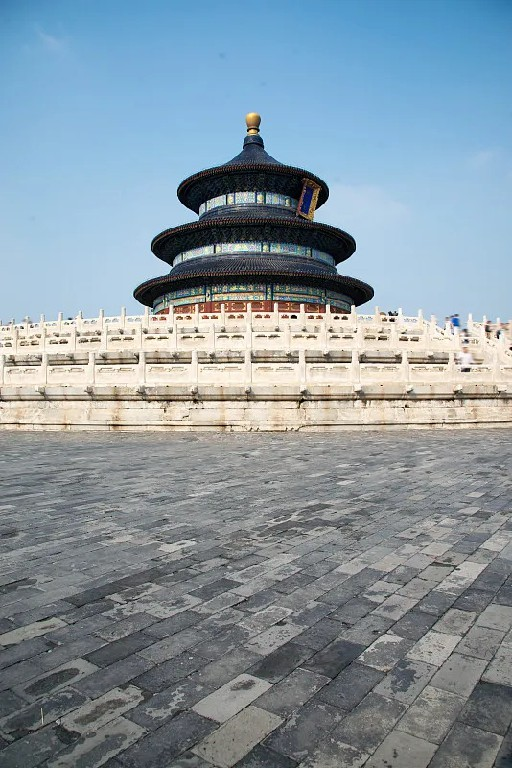Heaven: (133, 111, 373, 315)
